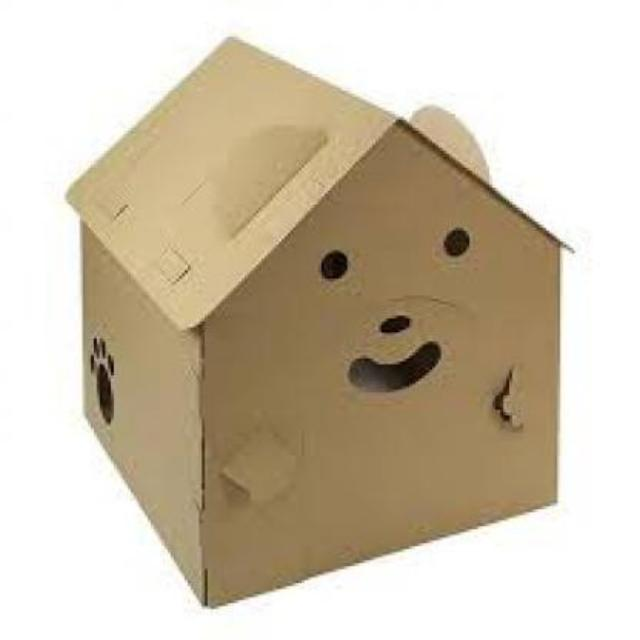cardboard_box: (40, 44, 606, 618)
